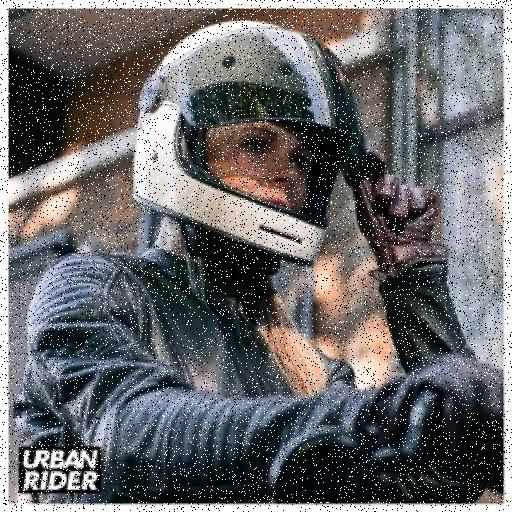Helmet: (128, 10, 365, 268)
